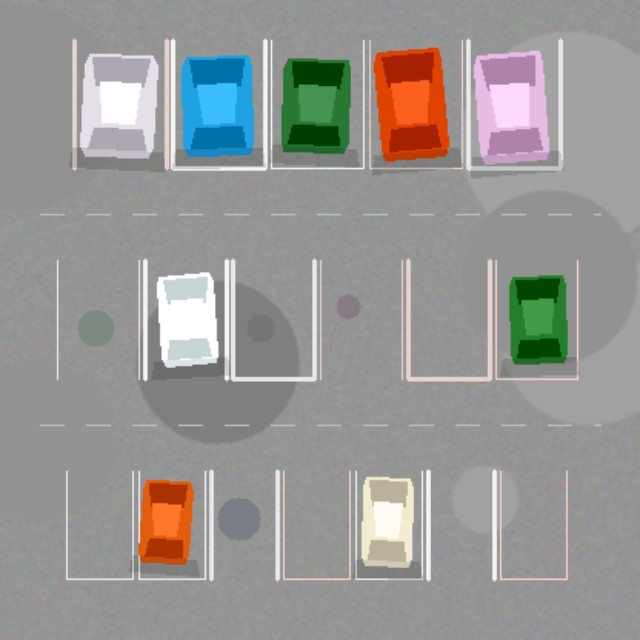space-empty: (232, 260, 314, 378), (320, 260, 402, 378), (57, 260, 138, 378), (408, 260, 489, 378), (66, 471, 132, 578), (211, 471, 277, 578), (283, 471, 349, 578), (428, 471, 494, 578), (500, 471, 566, 578)
space-occupied: (172, 40, 265, 168), (369, 40, 462, 168), (74, 40, 166, 168), (271, 40, 363, 168), (468, 40, 560, 168), (495, 260, 577, 378), (145, 260, 226, 378), (138, 471, 205, 578), (355, 471, 422, 578)
